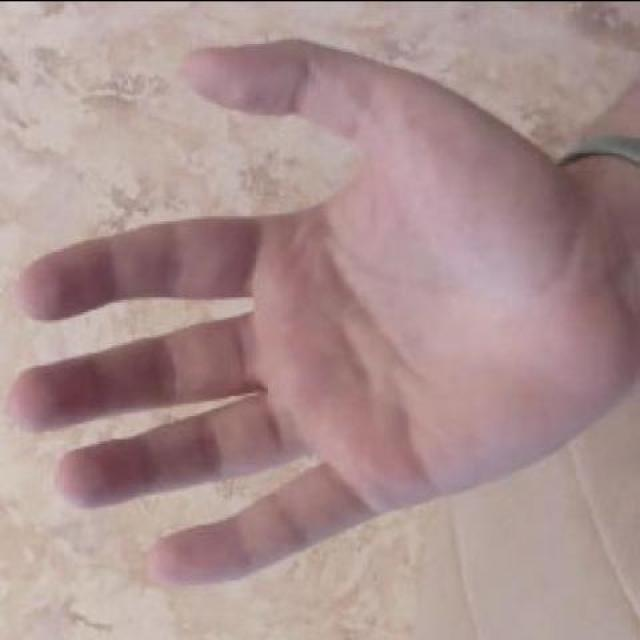Open Hand: (6, 39, 640, 589)
